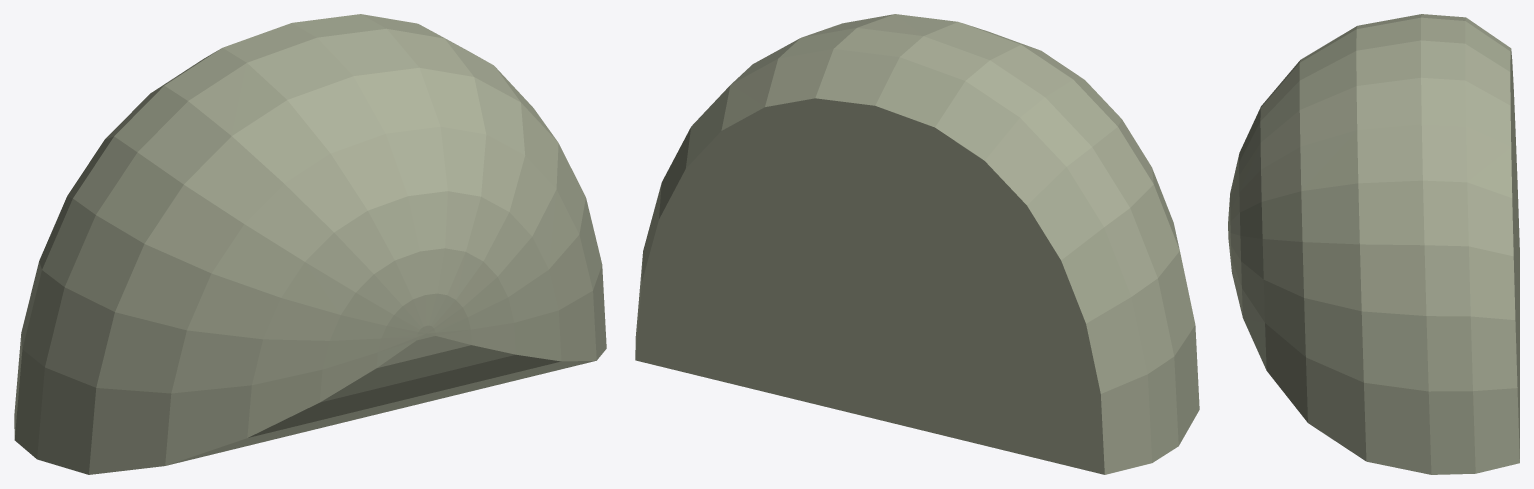
The model's file is centipede_segment_5.obj.
3 views of the same model, side by side, from view 1: azimuth 30°, elevation 25°; view 2: azimuth 150°, elevation 25°; view 3: azimuth 270°, elevation 25° (orthographic). The views are drawn at different scales.
Parts seen in each view (by area): view 1: centipede_segment_5; view 2: centipede_segment_5; view 3: centipede_segment_5.
Boxes of the visible parts, left/top/right/bottom form: centipede_segment_5: left=14, top=14, right=606, bottom=474; centipede_segment_5: left=635, top=14, right=1199, bottom=474; centipede_segment_5: left=1228, top=14, right=1519, bottom=474.
Size of the model in its own units: 1.26 by 0.79 by 0.6599.
